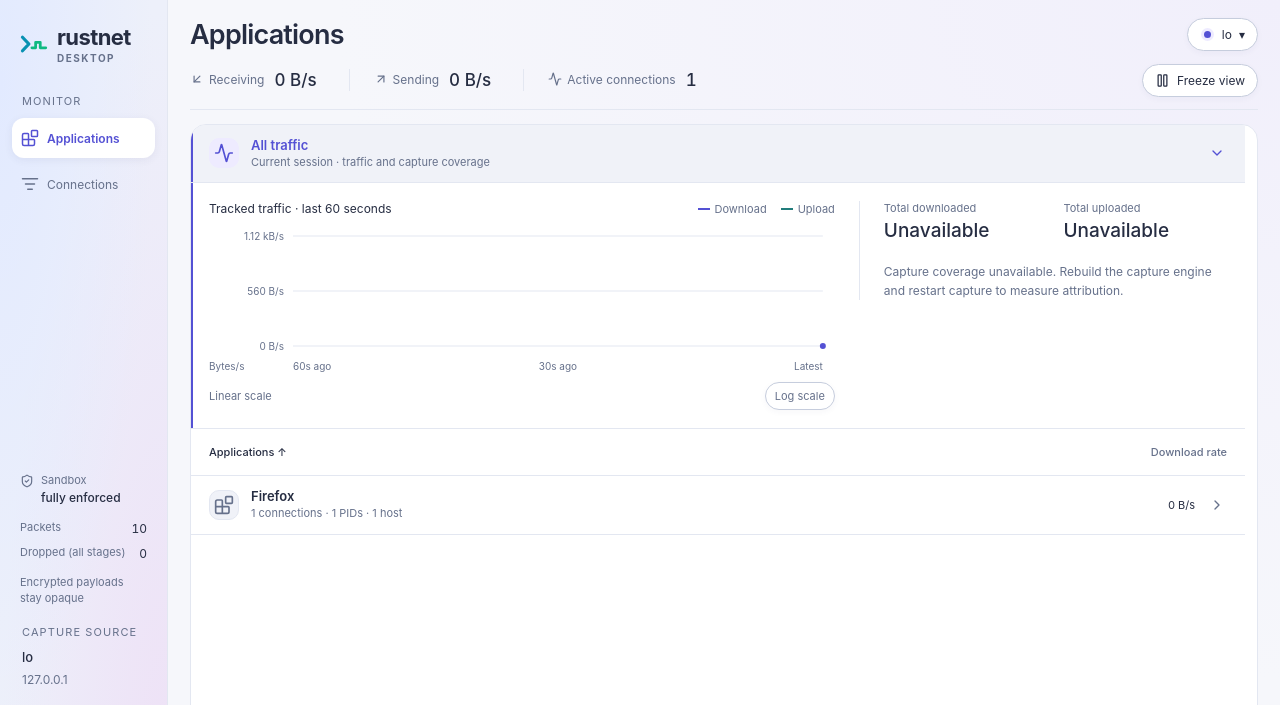
desktop workflow › keeps one selected app while executable paths arrive
Click the button "Firefox 1 connections · 1 PIDs · 1 host 0 B/s". click: (273, 496)
box: [191,476,1245,534]
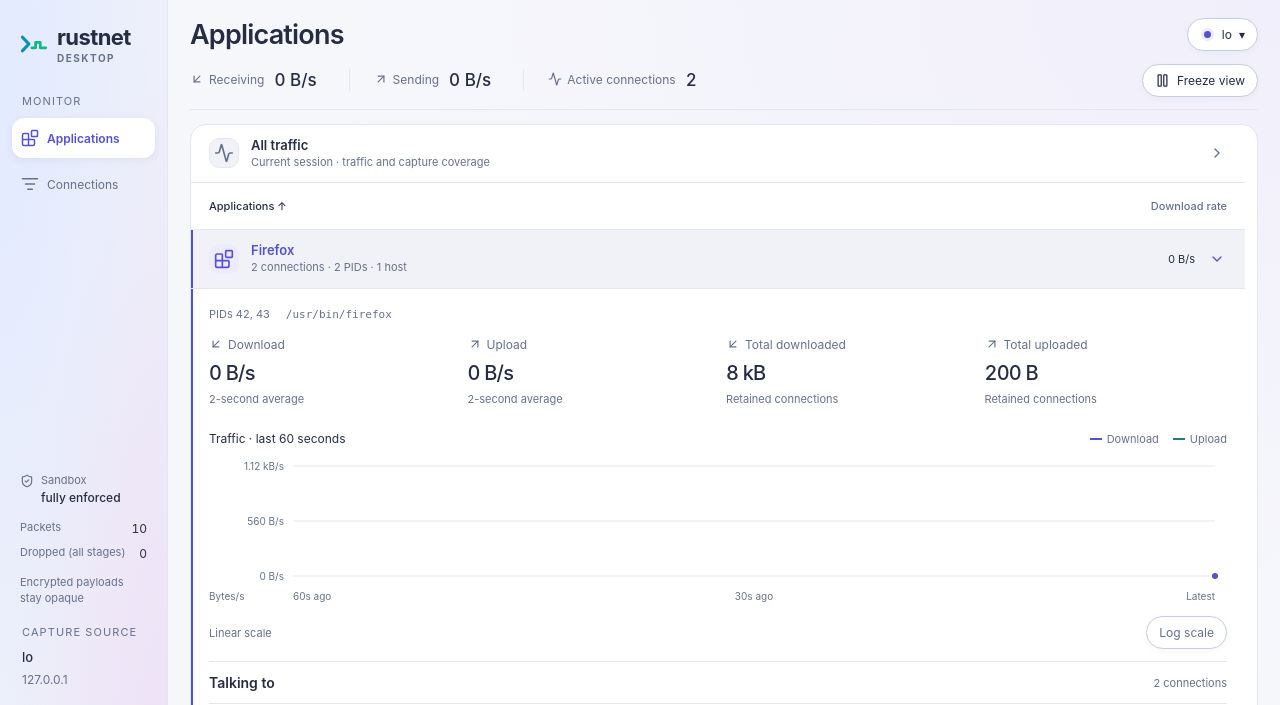
Check: the number of buttons "Firefox 2 connections · 2 PIDs · 1 host 0 B/s" is 1, box [191,230,1245,288]
Check: the text "/usr/bin/firefox" is shown, box [286,308,392,320]
